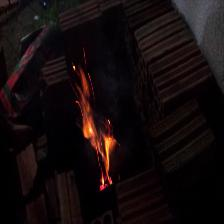fire: (55, 51, 131, 207)
